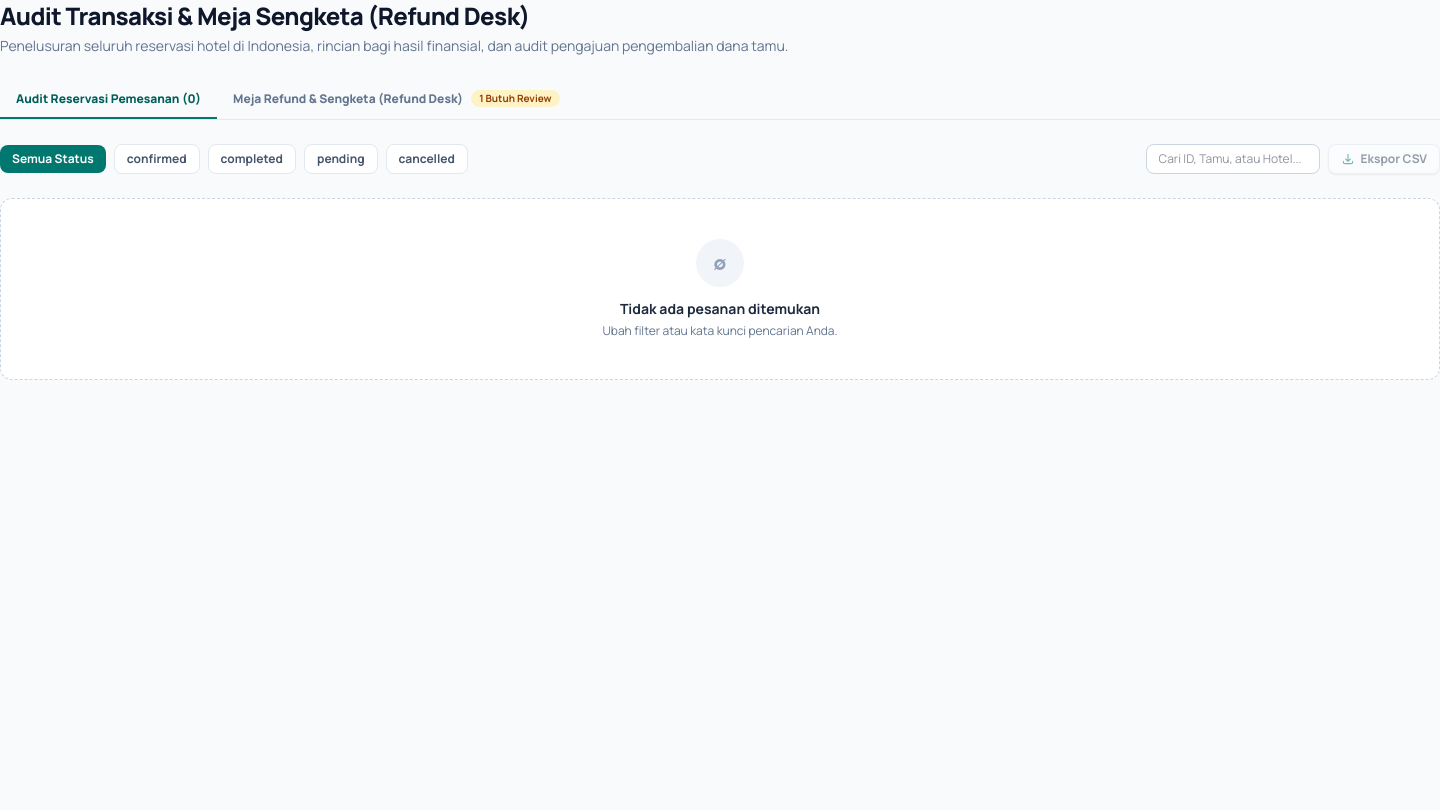
Scenario: OrderAudit.jsx Component Tests (Tab Refund, Setujui/Tolak Refund & Bukti Mitra) › tombol Tolak membuka modal dan memanggil rejectRefundRequest dengan alasan
Later steps or results of the test are not shown.
Expected: the heading "Audit Transaksi & Meja Sengketa (Refund Desk)" is shown, [0,0,530,32]
Click the button "Meja Refund & Sengketa (Refund Desk) 1 Butuh Review" at (396, 100), box [217,80,576,119]
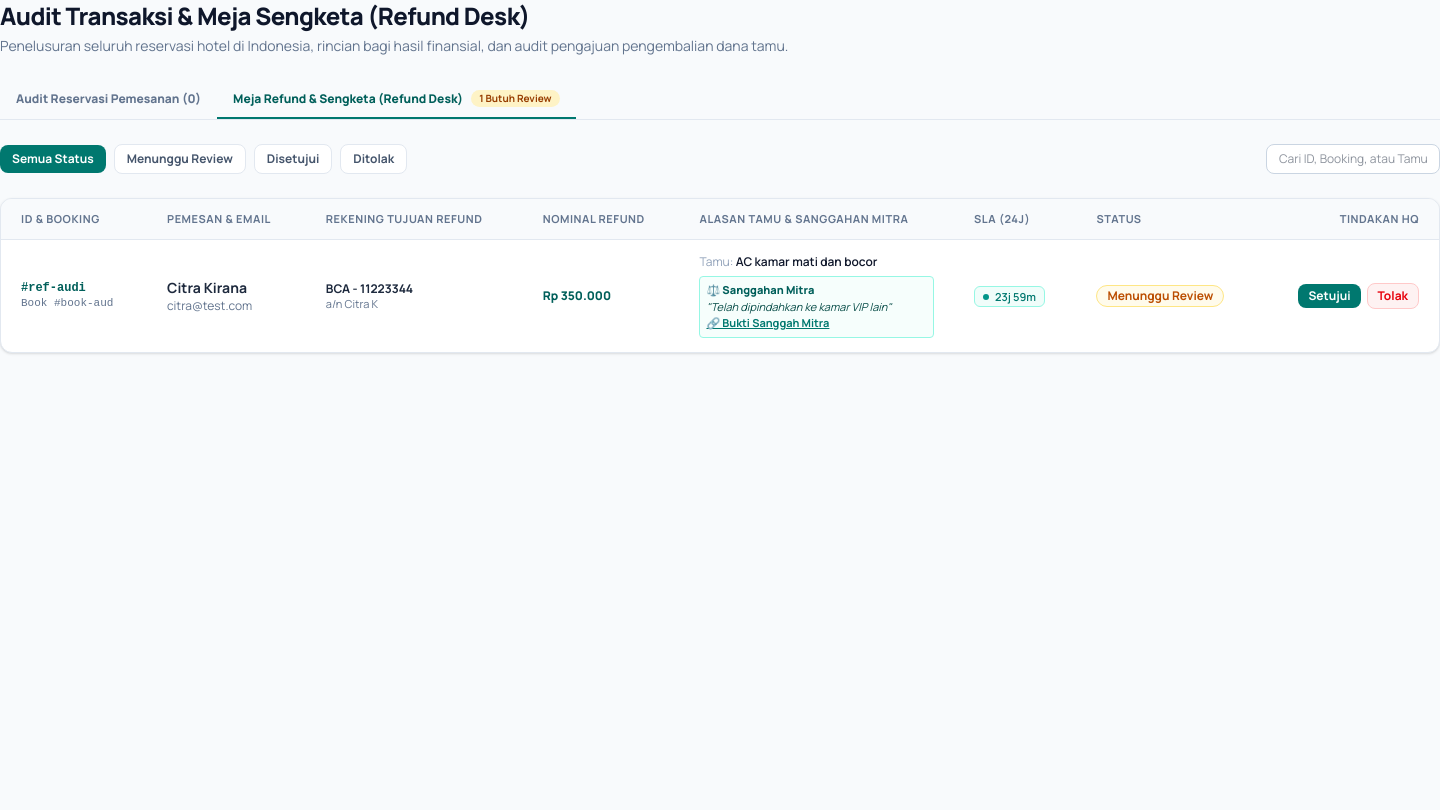
Click the button "Tolak" at (1393, 296), box [1366,283,1419,309]
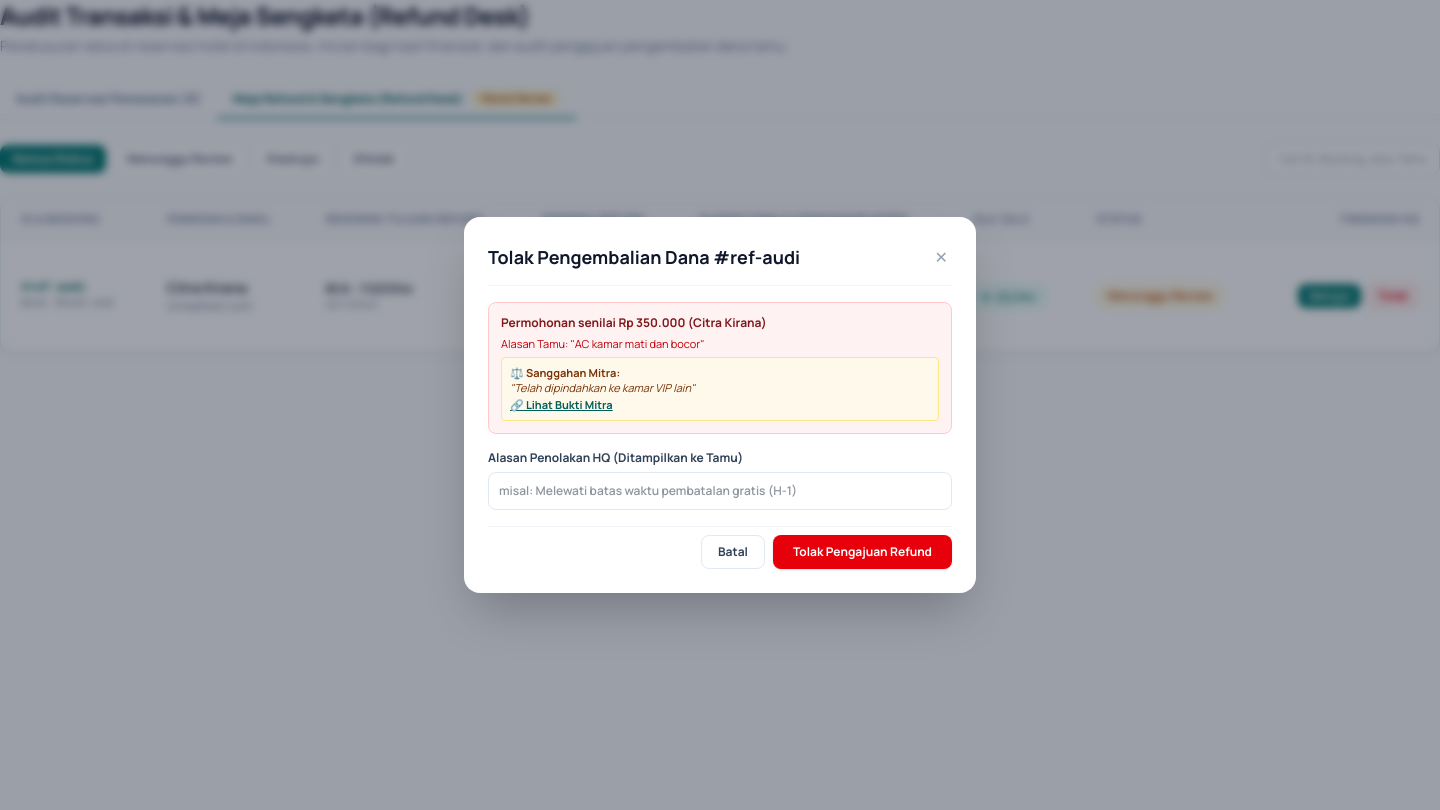
Result: the heading "Tolak Pengembalian Dana #ref-audi" is shown at [488,243,800,271]
